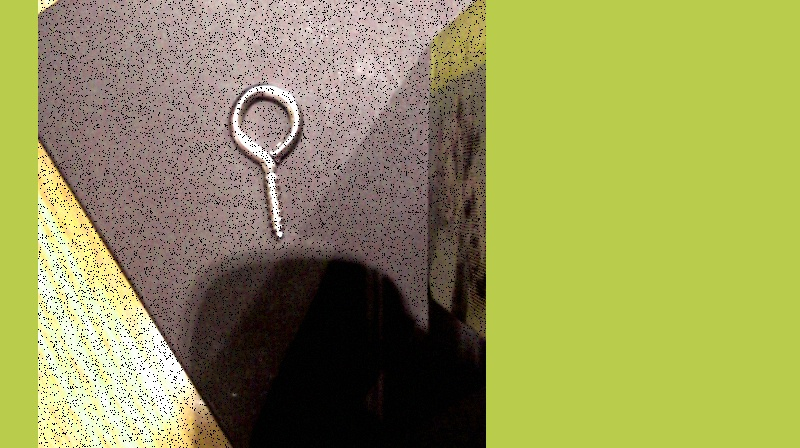O001: (223, 79, 309, 242)
